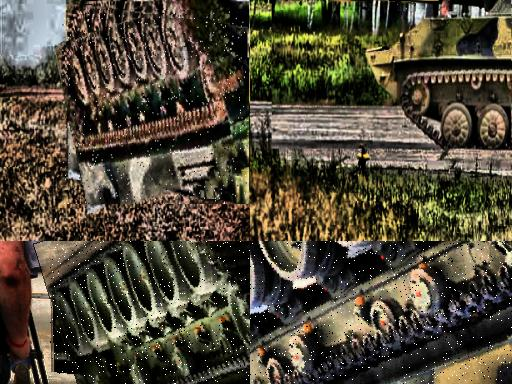tanks: (251, 242, 512, 384), (64, 11, 249, 205), (52, 242, 251, 384), (368, 1, 512, 150), (395, 4, 417, 11)
